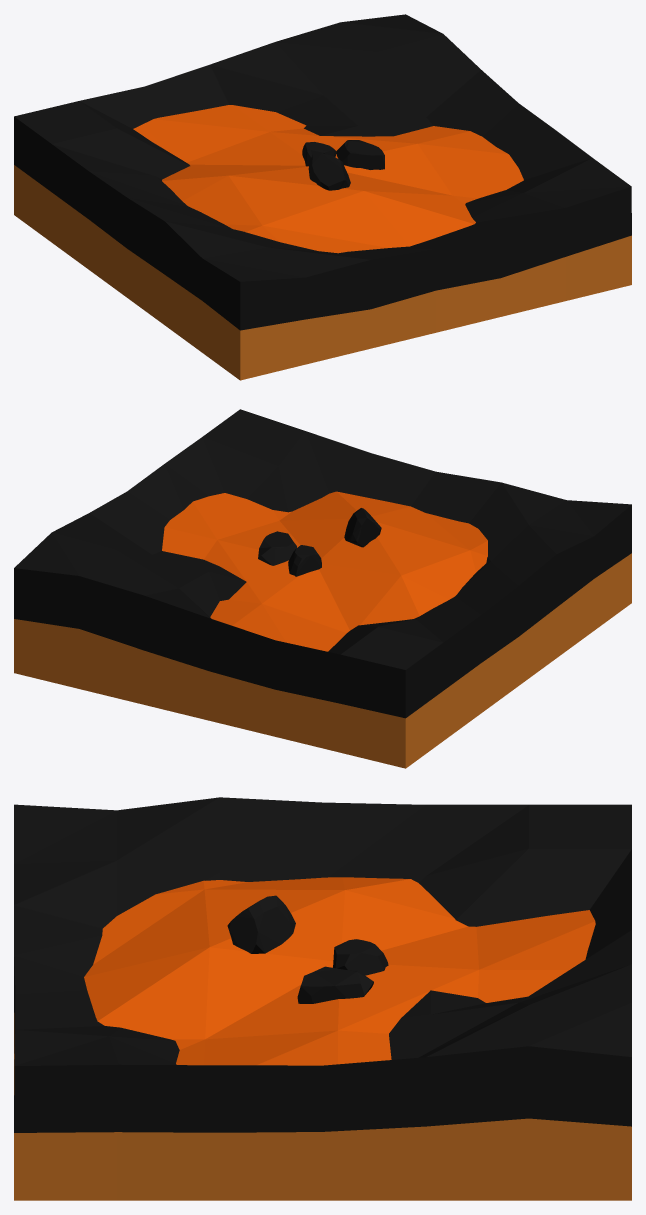
File: LAVE_neutre-feu.fbx
3 renders of one model, top to bottom at view 1: azimuth 30°, elevation 25°; view 2: azimuth 150°, elevation 25°; view 3: azimuth 270°, elevation 25°, orthographic. The views are drawn at different scales.
Parts seen in each view (by area): view 1: herbe.003; view 2: herbe.003; view 3: herbe.003.
Boxes of the visible parts, x1=… form: herbe.003: x1=14, y1=14, x2=631, y2=380; herbe.003: x1=14, y1=409, x2=631, y2=768; herbe.003: x1=14, y1=797, x2=631, y2=1200.
Size of the model in its own units: 5 by 1.42 by 5.
